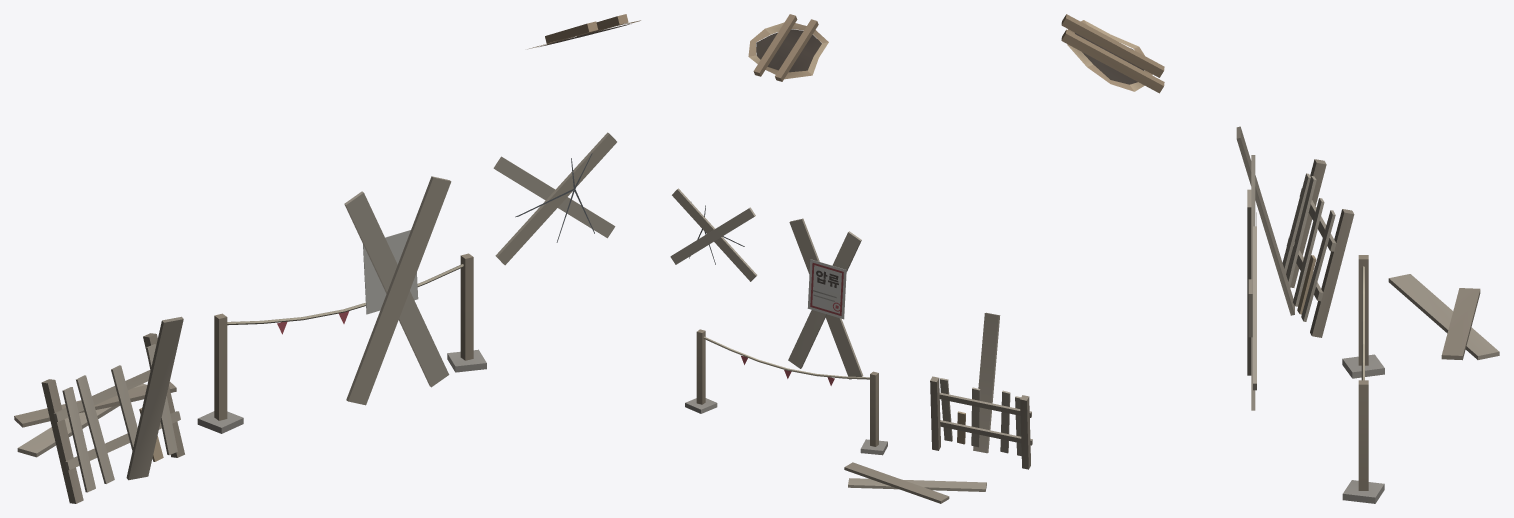
Rendered from house_seized_hut_low.glb.
3 renders of one model, left to right at view 1: azimuth 30°, elevation 25°; view 2: azimuth 150°, elevation 25°; view 3: azimuth 270°, elevation 25°, orthographic. The views are drawn at different scales.
Size of the model in its own units: 4.6 by 3.74 by 3.1.
